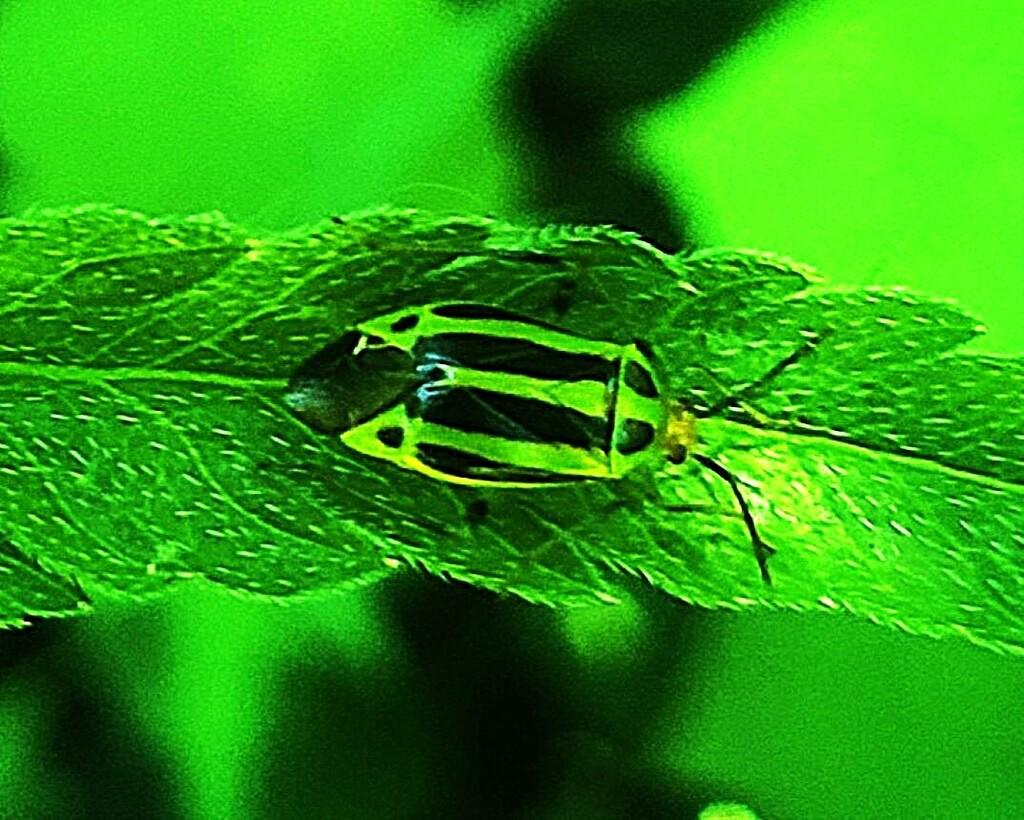plant_bugs: (221, 251, 881, 669)
